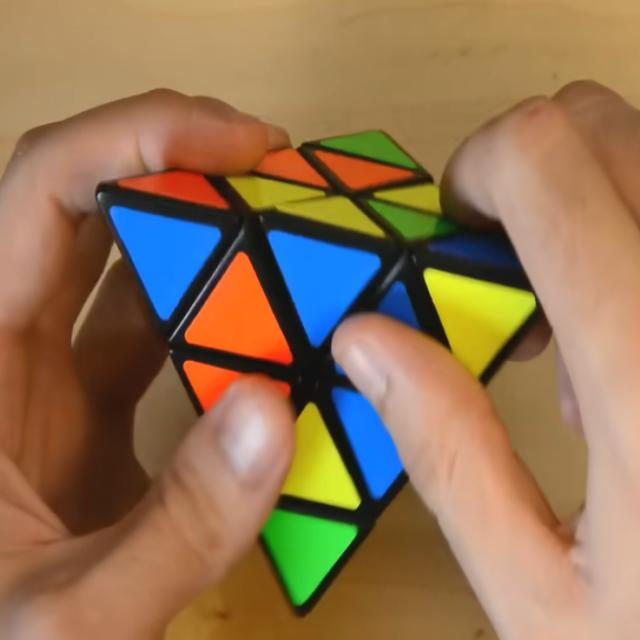Pyraminx: (94, 132, 541, 613)
